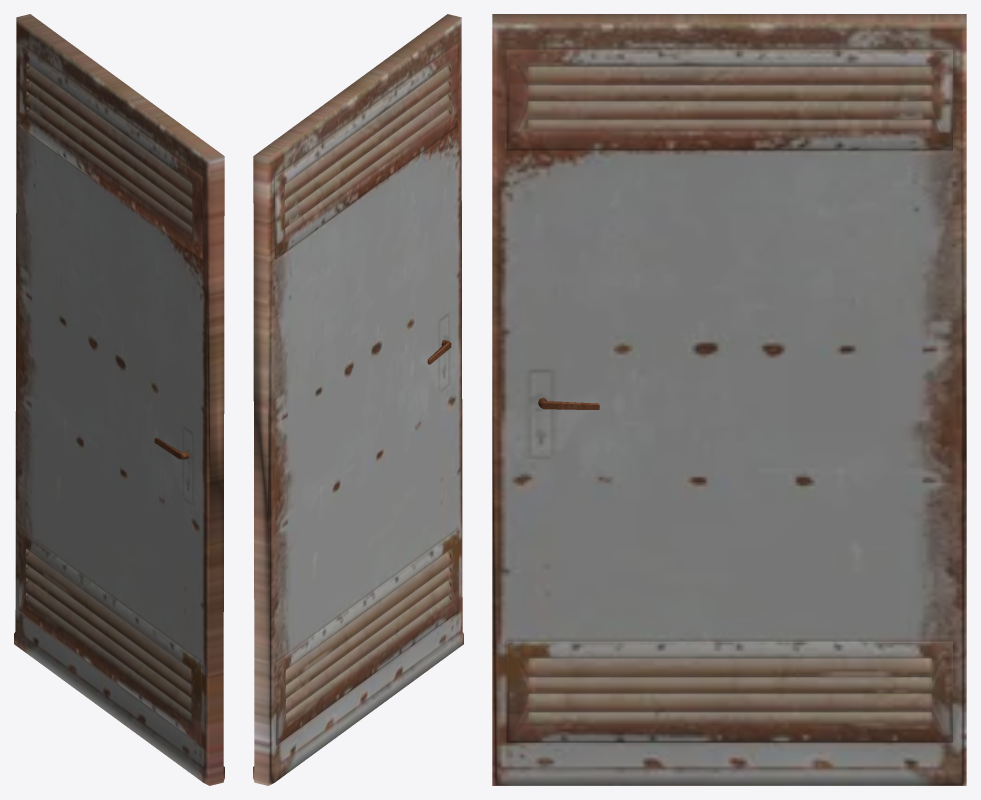
The model's file is door.hinged.industrial_a_e.glb.
3 renders of one model, left to right at view 1: azimuth 30°, elevation 25°; view 2: azimuth 150°, elevation 25°; view 3: azimuth 270°, elevation 25°, orthographic. The views are drawn at different scales.
Parts seen in each view (by area): view 1: industrial_doors_a_e; view 2: industrial_doors_a_e; view 3: industrial_doors_a_e.
Boxes of the visible parts, x1,y1,x2,y2 form: industrial_doors_a_e: [14, 14, 224, 785]; industrial_doors_a_e: [253, 14, 463, 785]; industrial_doors_a_e: [492, 14, 966, 785].
Bounding box in the file's own units: 0.1365 × 2.14 × 1.2.
1 material, 1 textured.
